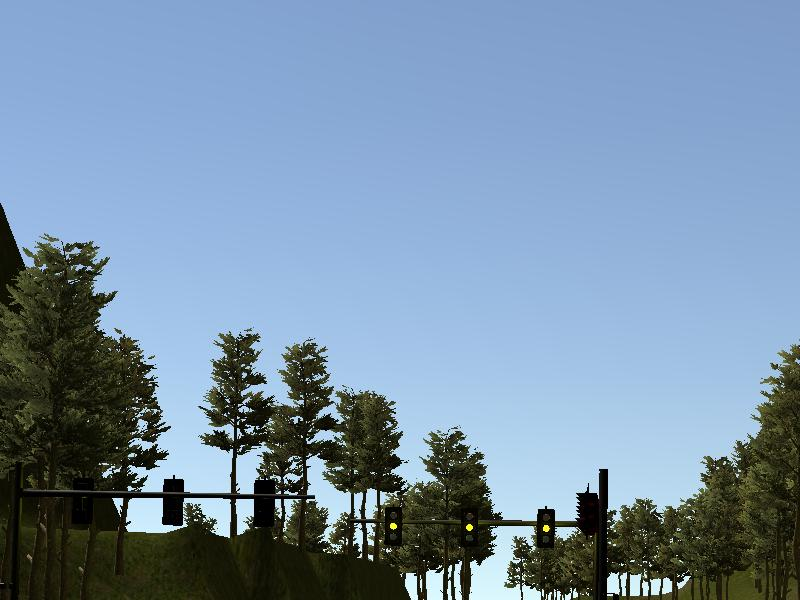Yellow: (536, 508, 556, 547), (385, 505, 402, 545), (461, 508, 478, 546)
